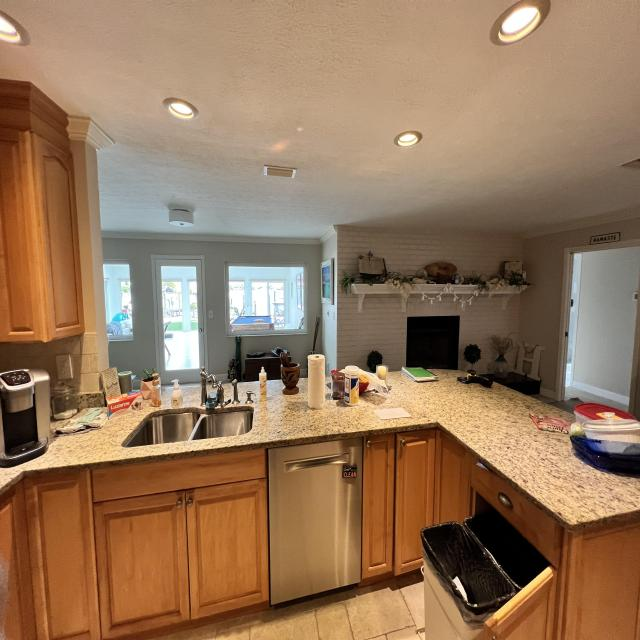Appliance_Dishwasher: (265, 438, 364, 608)
Appliance_Sink: (122, 368, 254, 448)
Cabinet_Flat: (91, 449, 266, 502), (470, 464, 561, 565)
Cabinet_Raised_Panel: (0, 468, 268, 640), (361, 434, 477, 588)
Countertop_Granite: (0, 370, 640, 525)
